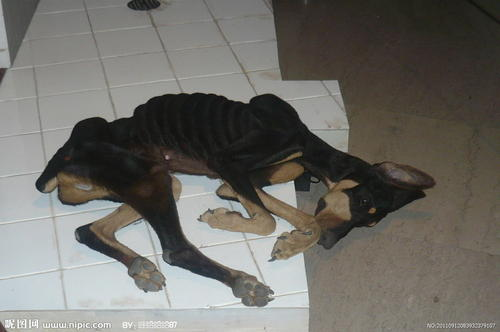dog: (302, 150, 438, 267)
